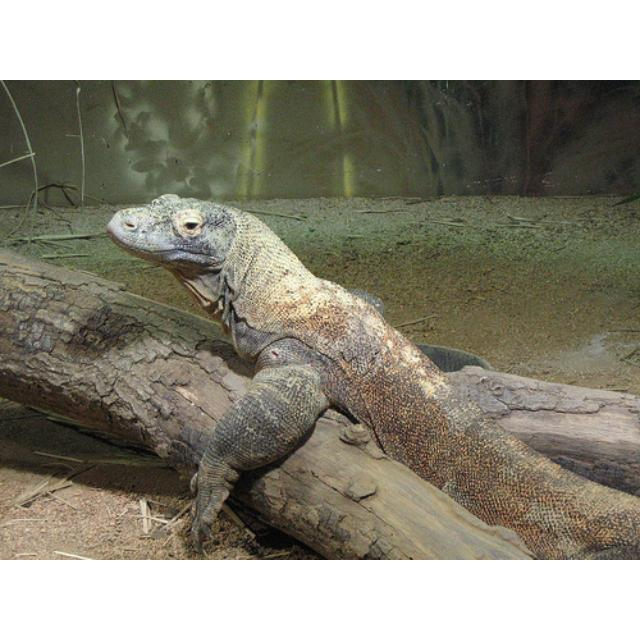KomodoDragon: (105, 191, 637, 558)
